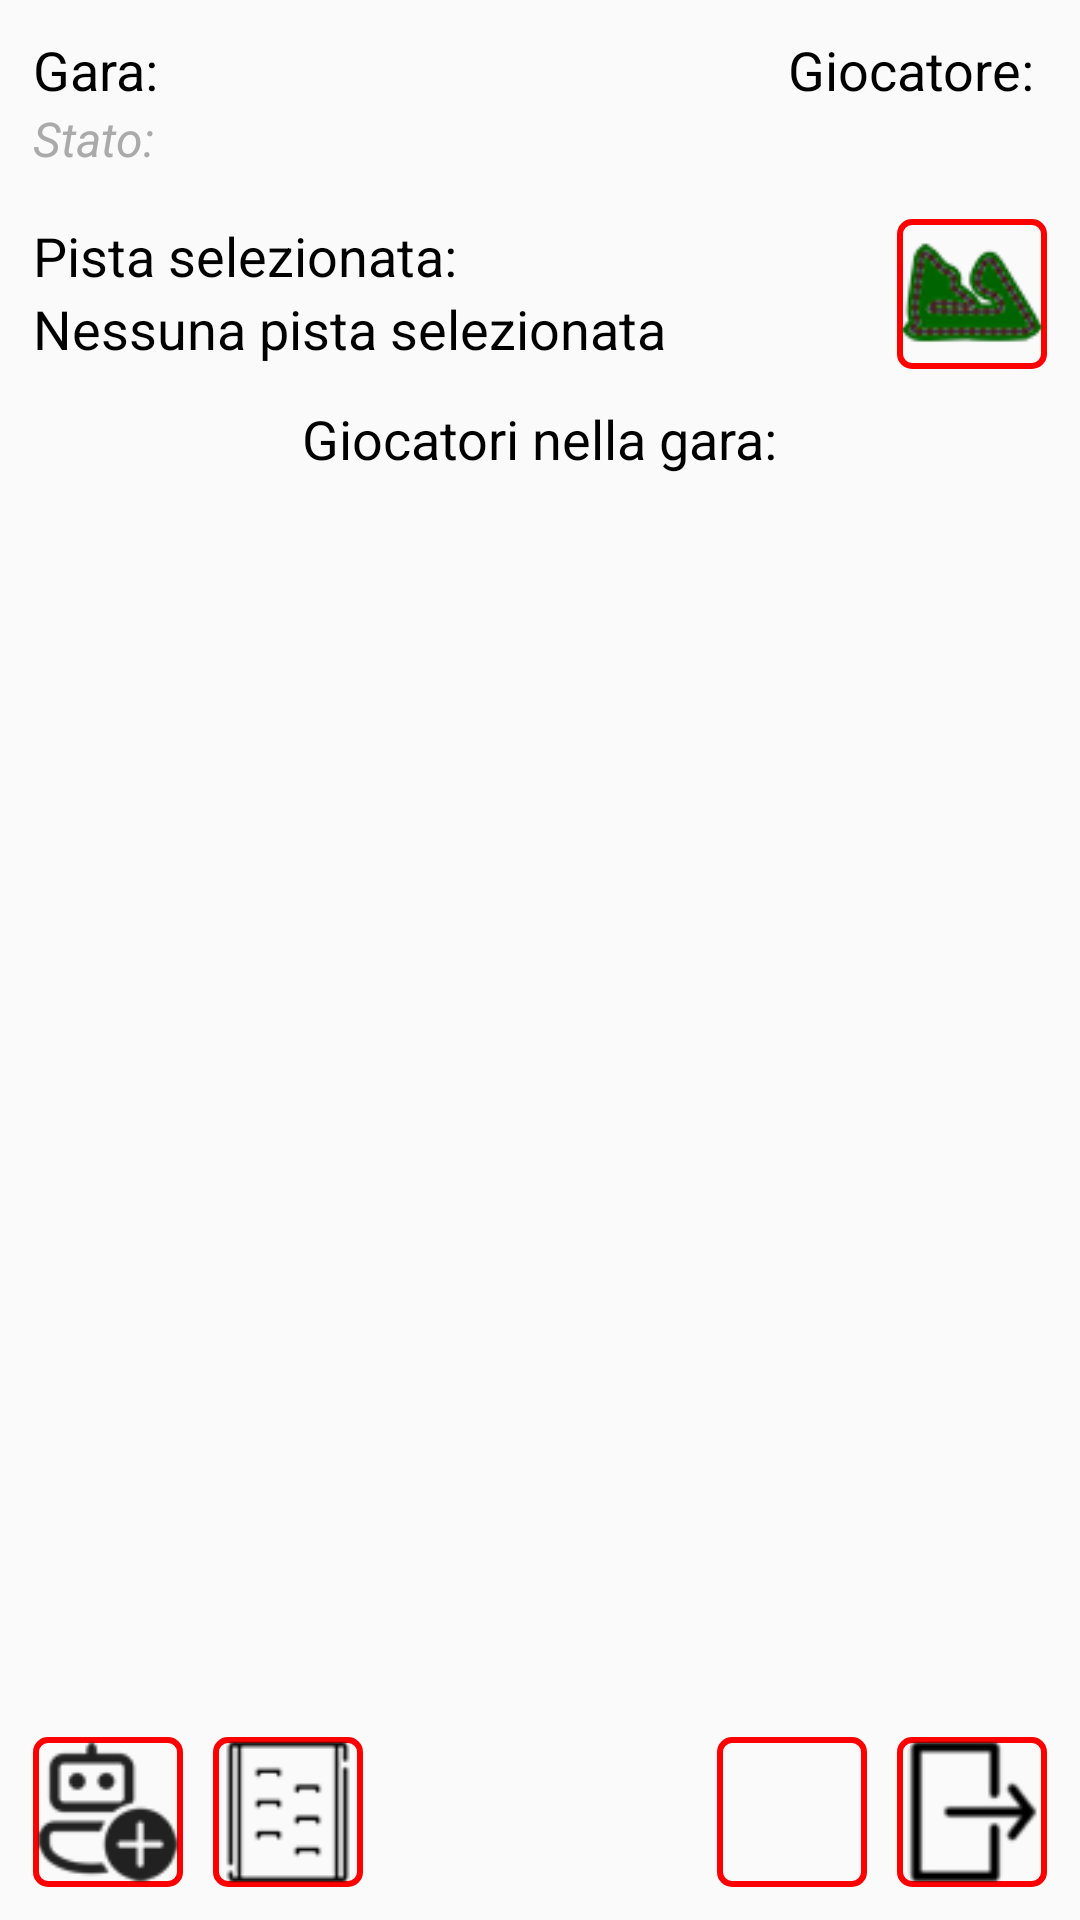

Screen size 1080px x 1920px. Icon name, then its box in pixels as (x1, y1, x2, y2):
bot add: (33, 1737, 183, 1887)
exit: (897, 1737, 1047, 1887)
sel track: (897, 219, 1047, 369)
starting grid: (213, 1737, 363, 1887)
